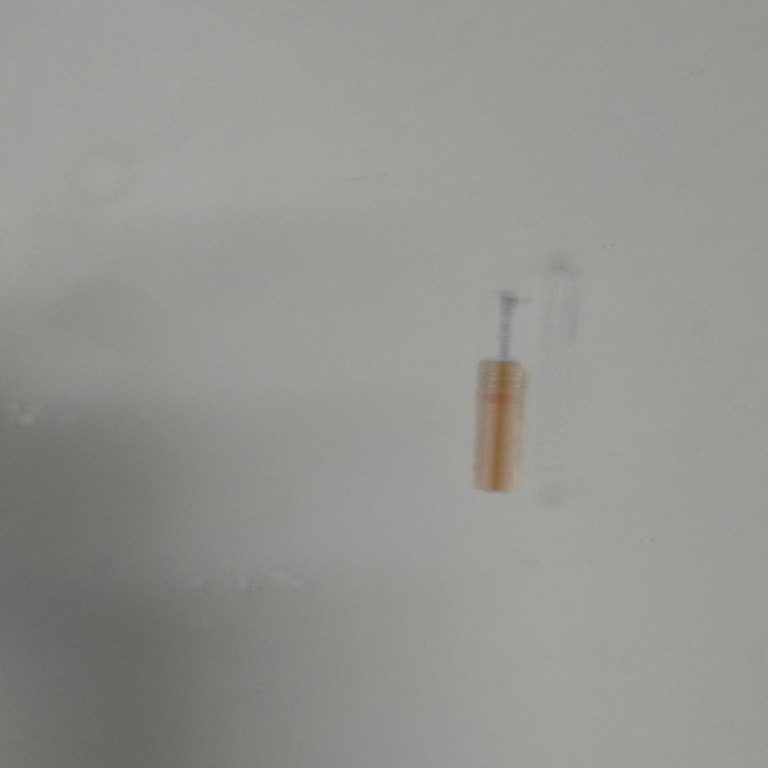cigarette: (468, 285, 538, 498)
